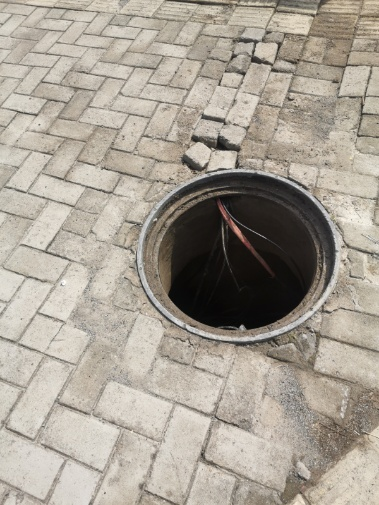lose: (136, 167, 339, 343)
